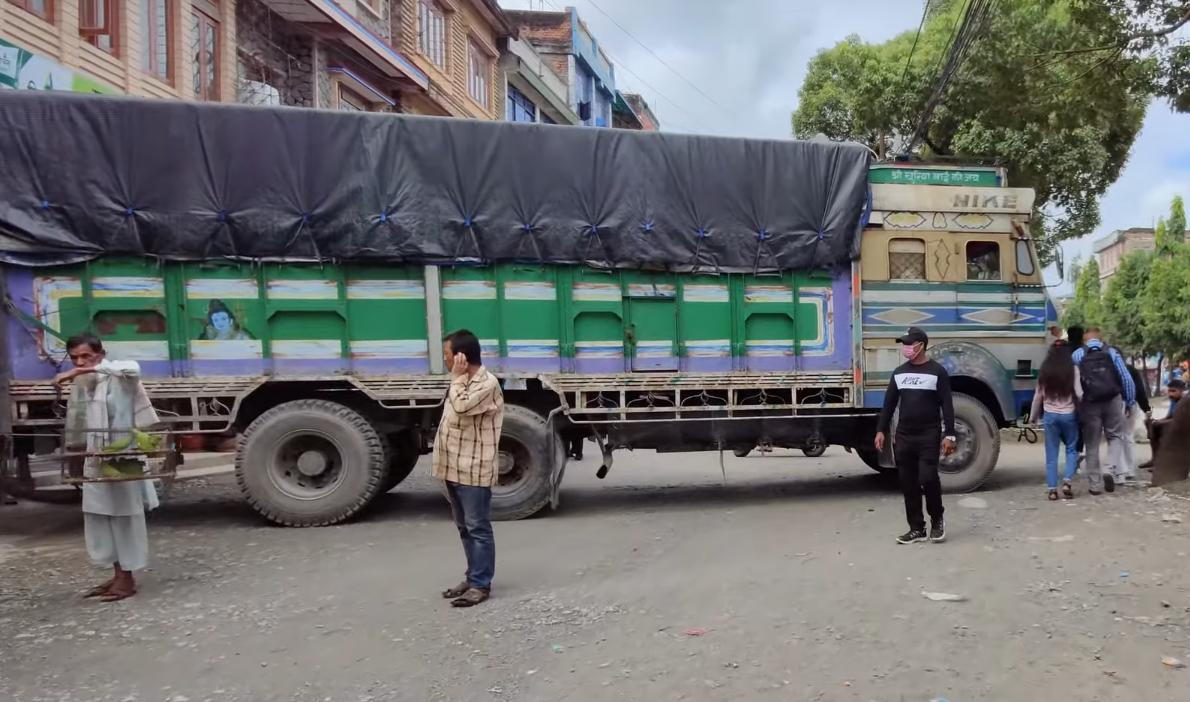truck: (0, 85, 1068, 526)
